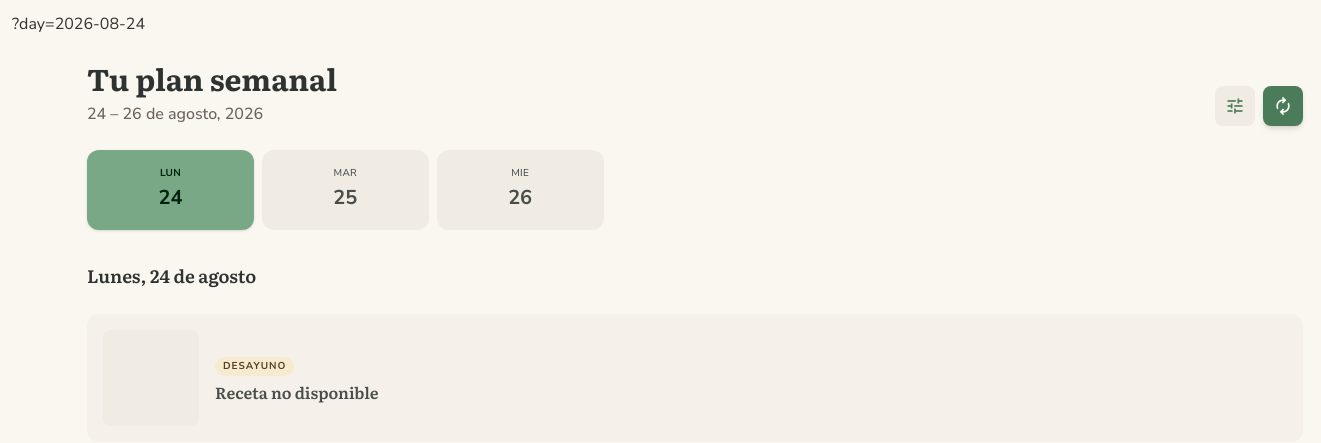
Test: MealPlanPage date normalization integration (real mealPlanService, mocked apiClient) › writes the short YYYY-MM-DD form to the URL when clicking a day, not the full ISO datetime
This screenshot has width=1321, height=443.
Expected: the tab "LUN 24" is shown, [87,150,254,230]
What coordinates should you click on to do the following:
click the tab "MIE 26"
I would click on:
 (520, 190)
Its box is [437,150,604,230].
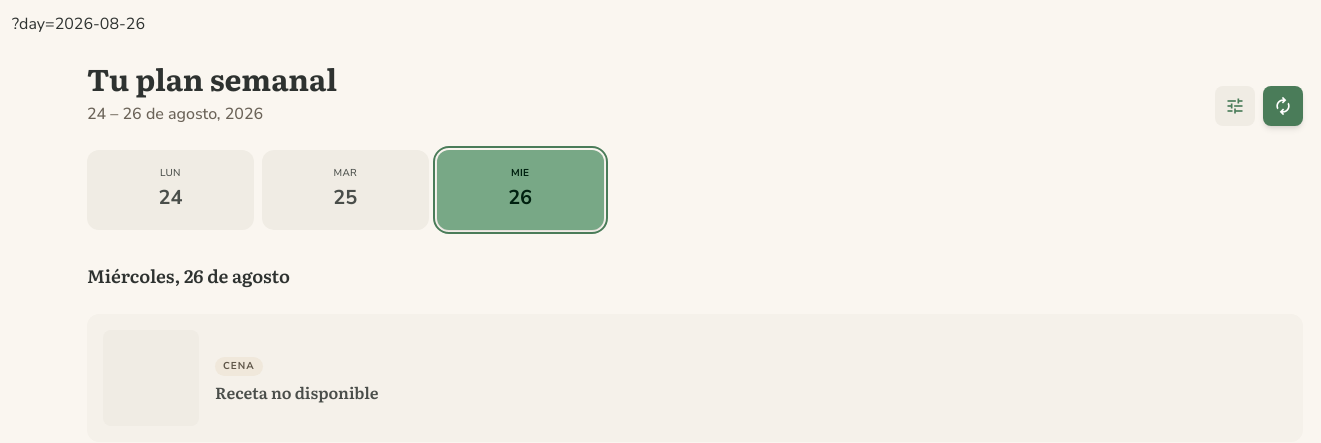
Expected: the text with test id "location-search" shows "day=2026-08-26", [12,13,145,35]
